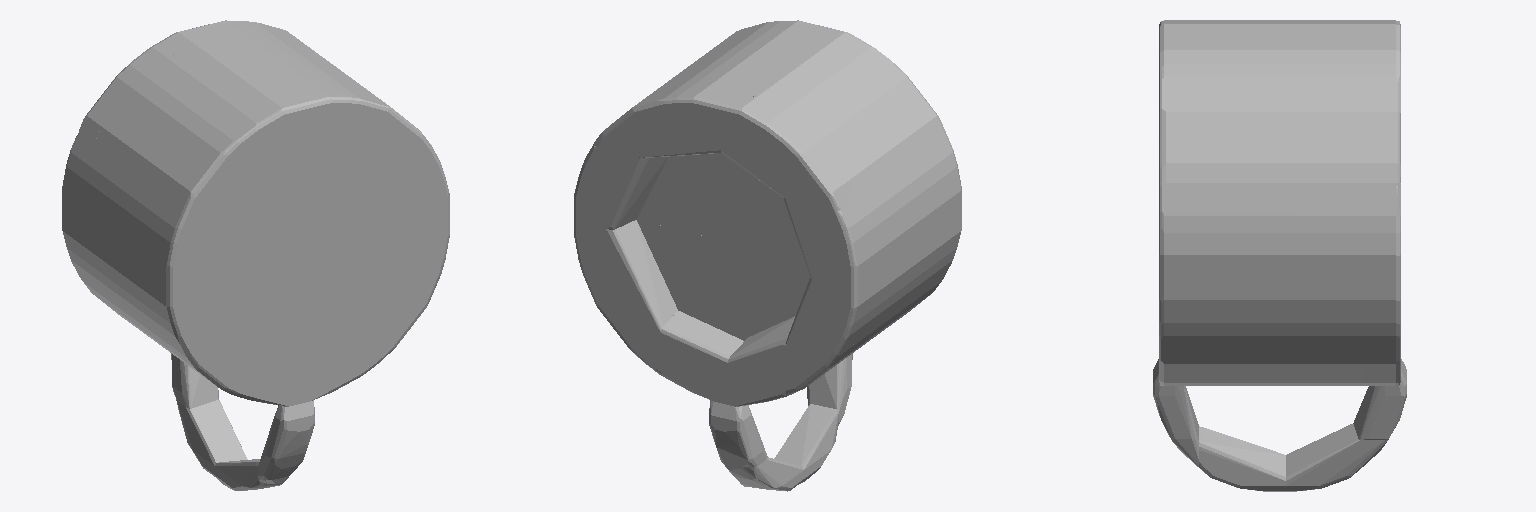
robot.urdf — root:
<robot name="root">
  <link name="link_coacd_convex_piece_0">
    <inertial>
      <origin xyz="0 0 0" rpy="0 0 0"/>
      <inertia ixx="3.86E-03" ixy="9.78E-06" ixz="-1.26E-04" iyy="2.55E-02" iyz="-4.34E-03" izz="5.74E-02"/>
    </inertial>
    <visual>
      <origin xyz="0 0 0" rpy="0 0 0"/>
      <geometry>
        <mesh filename="coacd_convex_piece_0.obj" scale="1.0000E+00 1.0000E+00 1.0000E+00"/>
      </geometry>
      <material name="">
        <color rgba="7.50E-01 7.50E-01 7.50E-01 1"/>
      </material>
    </visual>
    <collision>
      <origin xyz="0 0 0" rpy="0 0 0"/>
      <geometry>
        <mesh filename="coacd_convex_piece_0.obj" scale="1.0000E+00 1.0000E+00 1.0000E+00"/>
      </geometry>
    </collision>
  </link>
  <link name="link_coacd_convex_piece_1">
    <inertial>
      <origin xyz="0 0 0" rpy="0 0 0"/>
      <inertia ixx="1.57E-03" ixy="1.03E-04" ixz="-1.58E-04" iyy="1.02E-03" iyz="8.01E-04" izz="6.04E-04"/>
    </inertial>
    <visual>
      <origin xyz="0 0 0" rpy="0 0 0"/>
      <geometry>
        <mesh filename="coacd_convex_piece_1.obj" scale="1.0000E+00 1.0000E+00 1.0000E+00"/>
      </geometry>
      <material name="">
        <color rgba="7.50E-01 7.50E-01 7.50E-01 1"/>
      </material>
    </visual>
    <collision>
      <origin xyz="0 0 0" rpy="0 0 0"/>
      <geometry>
        <mesh filename="coacd_convex_piece_1.obj" scale="1.0000E+00 1.0000E+00 1.0000E+00"/>
      </geometry>
    </collision>
  </link>
  <joint name="link_coacd_convex_piece_1_joint" type="fixed">
    <origin xyz="0 0 0" rpy="0 0 0"/>
    <parent link="link_coacd_convex_piece_0"/>
    <child link="link_coacd_convex_piece_1"/>
  </joint>
  <link name="link_coacd_convex_piece_2">
    <inertial>
      <origin xyz="0 0 0" rpy="0 0 0"/>
      <inertia ixx="2.90E-03" ixy="8.28E-05" ixz="-3.52E-04" iyy="2.74E-03" iyz="6.63E-04" izz="2.60E-04"/>
    </inertial>
    <visual>
      <origin xyz="0 0 0" rpy="0 0 0"/>
      <geometry>
        <mesh filename="coacd_convex_piece_2.obj" scale="1.0000E+00 1.0000E+00 1.0000E+00"/>
      </geometry>
      <material name="">
        <color rgba="7.50E-01 7.50E-01 7.50E-01 1"/>
      </material>
    </visual>
    <collision>
      <origin xyz="0 0 0" rpy="0 0 0"/>
      <geometry>
        <mesh filename="coacd_convex_piece_2.obj" scale="1.0000E+00 1.0000E+00 1.0000E+00"/>
      </geometry>
    </collision>
  </link>
  <joint name="link_coacd_convex_piece_2_joint" type="fixed">
    <origin xyz="0 0 0" rpy="0 0 0"/>
    <parent link="link_coacd_convex_piece_1"/>
    <child link="link_coacd_convex_piece_2"/>
  </joint>
  <link name="link_coacd_convex_piece_3">
    <inertial>
      <origin xyz="0 0 0" rpy="0 0 0"/>
      <inertia ixx="2.61E-03" ixy="-5.48E-05" ixz="-3.30E-04" iyy="2.55E-03" iyz="-5.03E-04" izz="1.53E-04"/>
    </inertial>
    <visual>
      <origin xyz="0 0 0" rpy="0 0 0"/>
      <geometry>
        <mesh filename="coacd_convex_piece_3.obj" scale="1.0000E+00 1.0000E+00 1.0000E+00"/>
      </geometry>
      <material name="">
        <color rgba="7.50E-01 7.50E-01 7.50E-01 1"/>
      </material>
    </visual>
    <collision>
      <origin xyz="0 0 0" rpy="0 0 0"/>
      <geometry>
        <mesh filename="coacd_convex_piece_3.obj" scale="1.0000E+00 1.0000E+00 1.0000E+00"/>
      </geometry>
    </collision>
  </link>
  <joint name="link_coacd_convex_piece_3_joint" type="fixed">
    <origin xyz="0 0 0" rpy="0 0 0"/>
    <parent link="link_coacd_convex_piece_2"/>
    <child link="link_coacd_convex_piece_3"/>
  </joint>
  <link name="link_coacd_convex_piece_4">
    <inertial>
      <origin xyz="0 0 0" rpy="0 0 0"/>
      <inertia ixx="1.82E-03" ixy="-1.09E-04" ixz="-1.77E-04" iyy="1.24E-03" iyz="-9.71E-04" izz="6.34E-04"/>
    </inertial>
    <visual>
      <origin xyz="0 0 0" rpy="0 0 0"/>
      <geometry>
        <mesh filename="coacd_convex_piece_4.obj" scale="1.0000E+00 1.0000E+00 1.0000E+00"/>
      </geometry>
      <material name="">
        <color rgba="7.50E-01 7.50E-01 7.50E-01 1"/>
      </material>
    </visual>
    <collision>
      <origin xyz="0 0 0" rpy="0 0 0"/>
      <geometry>
        <mesh filename="coacd_convex_piece_4.obj" scale="1.0000E+00 1.0000E+00 1.0000E+00"/>
      </geometry>
    </collision>
  </link>
  <joint name="link_coacd_convex_piece_4_joint" type="fixed">
    <origin xyz="0 0 0" rpy="0 0 0"/>
    <parent link="link_coacd_convex_piece_3"/>
    <child link="link_coacd_convex_piece_4"/>
  </joint>
  <link name="link_coacd_convex_piece_5">
    <inertial>
      <origin xyz="0 0 0" rpy="0 0 0"/>
      <inertia ixx="1.15E-01" ixy="2.00E-05" ixz="-1.35E-04" iyy="1.39E-01" iyz="1.06E-02" izz="6.18E-02"/>
    </inertial>
    <visual>
      <origin xyz="0 0 0" rpy="0 0 0"/>
      <geometry>
        <mesh filename="coacd_convex_piece_5.obj" scale="1.0000E+00 1.0000E+00 1.0000E+00"/>
      </geometry>
      <material name="">
        <color rgba="7.50E-01 7.50E-01 7.50E-01 1"/>
      </material>
    </visual>
    <collision>
      <origin xyz="0 0 0" rpy="0 0 0"/>
      <geometry>
        <mesh filename="coacd_convex_piece_5.obj" scale="1.0000E+00 1.0000E+00 1.0000E+00"/>
      </geometry>
    </collision>
  </link>
  <joint name="link_coacd_convex_piece_5_joint" type="fixed">
    <origin xyz="0 0 0" rpy="0 0 0"/>
    <parent link="link_coacd_convex_piece_4"/>
    <child link="link_coacd_convex_piece_5"/>
  </joint>
  <link name="link_coacd_convex_piece_6">
    <inertial>
      <origin xyz="0 0 0" rpy="0 0 0"/>
      <inertia ixx="1.01E-03" ixy="2.07E-03" ixz="1.49E-04" iyy="2.19E-03" iyz="-1.74E-04" izz="4.36E-03"/>
    </inertial>
    <visual>
      <origin xyz="0 0 0" rpy="0 0 0"/>
      <geometry>
        <mesh filename="coacd_convex_piece_6.obj" scale="1.0000E+00 1.0000E+00 1.0000E+00"/>
      </geometry>
      <material name="">
        <color rgba="7.50E-01 7.50E-01 7.50E-01 1"/>
      </material>
    </visual>
    <collision>
      <origin xyz="0 0 0" rpy="0 0 0"/>
      <geometry>
        <mesh filename="coacd_convex_piece_6.obj" scale="1.0000E+00 1.0000E+00 1.0000E+00"/>
      </geometry>
    </collision>
  </link>
  <joint name="link_coacd_convex_piece_6_joint" type="fixed">
    <origin xyz="0 0 0" rpy="0 0 0"/>
    <parent link="link_coacd_convex_piece_5"/>
    <child link="link_coacd_convex_piece_6"/>
  </joint>
  <link name="link_coacd_convex_piece_7">
    <inertial>
      <origin xyz="0 0 0" rpy="0 0 0"/>
      <inertia ixx="8.15E-03" ixy="-1.05E-03" ixz="-2.04E-03" iyy="7.30E-03" iyz="-3.68E-03" izz="2.67E-03"/>
    </inertial>
    <visual>
      <origin xyz="0 0 0" rpy="0 0 0"/>
      <geometry>
        <mesh filename="coacd_convex_piece_7.obj" scale="1.0000E+00 1.0000E+00 1.0000E+00"/>
      </geometry>
      <material name="">
        <color rgba="7.50E-01 7.50E-01 7.50E-01 1"/>
      </material>
    </visual>
    <collision>
      <origin xyz="0 0 0" rpy="0 0 0"/>
      <geometry>
        <mesh filename="coacd_convex_piece_7.obj" scale="1.0000E+00 1.0000E+00 1.0000E+00"/>
      </geometry>
    </collision>
  </link>
  <joint name="link_coacd_convex_piece_7_joint" type="fixed">
    <origin xyz="0 0 0" rpy="0 0 0"/>
    <parent link="link_coacd_convex_piece_6"/>
    <child link="link_coacd_convex_piece_7"/>
  </joint>
  <link name="link_coacd_convex_piece_8">
    <inertial>
      <origin xyz="0 0 0" rpy="0 0 0"/>
      <inertia ixx="2.47E-03" ixy="-1.74E-03" ixz="-2.00E-03" iyy="3.63E-03" iyz="-1.59E-03" izz="3.72E-03"/>
    </inertial>
    <visual>
      <origin xyz="0 0 0" rpy="0 0 0"/>
      <geometry>
        <mesh filename="coacd_convex_piece_8.obj" scale="1.0000E+00 1.0000E+00 1.0000E+00"/>
      </geometry>
      <material name="">
        <color rgba="7.50E-01 7.50E-01 7.50E-01 1"/>
      </material>
    </visual>
    <collision>
      <origin xyz="0 0 0" rpy="0 0 0"/>
      <geometry>
        <mesh filename="coacd_convex_piece_8.obj" scale="1.0000E+00 1.0000E+00 1.0000E+00"/>
      </geometry>
    </collision>
  </link>
  <joint name="link_coacd_convex_piece_8_joint" type="fixed">
    <origin xyz="0 0 0" rpy="0 0 0"/>
    <parent link="link_coacd_convex_piece_7"/>
    <child link="link_coacd_convex_piece_8"/>
  </joint>
  <link name="link_coacd_convex_piece_9">
    <inertial>
      <origin xyz="0 0 0" rpy="0 0 0"/>
      <inertia ixx="7.36E-03" ixy="1.18E-03" ixz="2.24E-03" iyy="6.77E-03" iyz="-3.38E-03" izz="2.73E-03"/>
    </inertial>
    <visual>
      <origin xyz="0 0 0" rpy="0 0 0"/>
      <geometry>
        <mesh filename="coacd_convex_piece_9.obj" scale="1.0000E+00 1.0000E+00 1.0000E+00"/>
      </geometry>
      <material name="">
        <color rgba="7.50E-01 7.50E-01 7.50E-01 1"/>
      </material>
    </visual>
    <collision>
      <origin xyz="0 0 0" rpy="0 0 0"/>
      <geometry>
        <mesh filename="coacd_convex_piece_9.obj" scale="1.0000E+00 1.0000E+00 1.0000E+00"/>
      </geometry>
    </collision>
  </link>
  <joint name="link_coacd_convex_piece_9_joint" type="fixed">
    <origin xyz="0 0 0" rpy="0 0 0"/>
    <parent link="link_coacd_convex_piece_8"/>
    <child link="link_coacd_convex_piece_9"/>
  </joint>
  <link name="link_coacd_convex_piece_10">
    <inertial>
      <origin xyz="0 0 0" rpy="0 0 0"/>
      <inertia ixx="2.27E-03" ixy="1.69E-03" ixz="1.87E-03" iyy="3.38E-03" iyz="-1.49E-03" izz="3.60E-03"/>
    </inertial>
    <visual>
      <origin xyz="0 0 0" rpy="0 0 0"/>
      <geometry>
        <mesh filename="coacd_convex_piece_10.obj" scale="1.0000E+00 1.0000E+00 1.0000E+00"/>
      </geometry>
      <material name="">
        <color rgba="7.50E-01 7.50E-01 7.50E-01 1"/>
      </material>
    </visual>
    <collision>
      <origin xyz="0 0 0" rpy="0 0 0"/>
      <geometry>
        <mesh filename="coacd_convex_piece_10.obj" scale="1.0000E+00 1.0000E+00 1.0000E+00"/>
      </geometry>
    </collision>
  </link>
  <joint name="link_coacd_convex_piece_10_joint" type="fixed">
    <origin xyz="0 0 0" rpy="0 0 0"/>
    <parent link="link_coacd_convex_piece_9"/>
    <child link="link_coacd_convex_piece_10"/>
  </joint>
  <link name="link_coacd_convex_piece_11">
    <inertial>
      <origin xyz="0 0 0" rpy="0 0 0"/>
      <inertia ixx="1.30E-03" ixy="-2.36E-03" ixz="1.36E-06" iyy="2.34E-03" iyz="-4.29E-06" izz="4.97E-03"/>
    </inertial>
    <visual>
      <origin xyz="0 0 0" rpy="0 0 0"/>
      <geometry>
        <mesh filename="coacd_convex_piece_11.obj" scale="1.0000E+00 1.0000E+00 1.0000E+00"/>
      </geometry>
      <material name="">
        <color rgba="7.50E-01 7.50E-01 7.50E-01 1"/>
      </material>
    </visual>
    <collision>
      <origin xyz="0 0 0" rpy="0 0 0"/>
      <geometry>
        <mesh filename="coacd_convex_piece_11.obj" scale="1.0000E+00 1.0000E+00 1.0000E+00"/>
      </geometry>
    </collision>
  </link>
  <joint name="link_coacd_convex_piece_11_joint" type="fixed">
    <origin xyz="0 0 0" rpy="0 0 0"/>
    <parent link="link_coacd_convex_piece_10"/>
    <child link="link_coacd_convex_piece_11"/>
  </joint>
  <link name="link_coacd_convex_piece_12">
    <inertial>
      <origin xyz="0 0 0" rpy="0 0 0"/>
      <inertia ixx="1.10E-03" ixy="-2.48E-04" ixz="1.73E-04" iyy="2.09E-04" iyz="6.82E-04" izz="1.13E-03"/>
    </inertial>
    <visual>
      <origin xyz="0 0 0" rpy="0 0 0"/>
      <geometry>
        <mesh filename="coacd_convex_piece_12.obj" scale="1.0000E+00 1.0000E+00 1.0000E+00"/>
      </geometry>
      <material name="">
        <color rgba="7.50E-01 7.50E-01 7.50E-01 1"/>
      </material>
    </visual>
    <collision>
      <origin xyz="0 0 0" rpy="0 0 0"/>
      <geometry>
        <mesh filename="coacd_convex_piece_12.obj" scale="1.0000E+00 1.0000E+00 1.0000E+00"/>
      </geometry>
    </collision>
  </link>
  <joint name="link_coacd_convex_piece_12_joint" type="fixed">
    <origin xyz="0 0 0" rpy="0 0 0"/>
    <parent link="link_coacd_convex_piece_11"/>
    <child link="link_coacd_convex_piece_12"/>
  </joint>
  <link name="link_coacd_convex_piece_13">
    <inertial>
      <origin xyz="0 0 0" rpy="0 0 0"/>
      <inertia ixx="9.49E-04" ixy="5.62E-04" ixz="-3.38E-04" iyy="3.10E-04" iyz="5.64E-04" izz="1.36E-03"/>
    </inertial>
    <visual>
      <origin xyz="0 0 0" rpy="0 0 0"/>
      <geometry>
        <mesh filename="coacd_convex_piece_13.obj" scale="1.0000E+00 1.0000E+00 1.0000E+00"/>
      </geometry>
      <material name="">
        <color rgba="7.50E-01 7.50E-01 7.50E-01 1"/>
      </material>
    </visual>
    <collision>
      <origin xyz="0 0 0" rpy="0 0 0"/>
      <geometry>
        <mesh filename="coacd_convex_piece_13.obj" scale="1.0000E+00 1.0000E+00 1.0000E+00"/>
      </geometry>
    </collision>
  </link>
  <joint name="link_coacd_convex_piece_13_joint" type="fixed">
    <origin xyz="0 0 0" rpy="0 0 0"/>
    <parent link="link_coacd_convex_piece_12"/>
    <child link="link_coacd_convex_piece_13"/>
  </joint>
</robot>

--- Facts derived from the render (not from the file) ---
The picture shows the robot from 3 angles, left to right: view 1: azimuth 30°, elevation 25°; view 2: azimuth 150°, elevation 25°; view 3: azimuth 270°, elevation 25°; orthographic projection.
Model root with 14 links and 13 joints (13 fixed), rooted at link_coacd_convex_piece_0, posed every joint at zero.
Links seen in each view (by area): view 1: link_coacd_convex_piece_5, link_coacd_convex_piece_0, link_coacd_convex_piece_4, link_coacd_convex_piece_9, link_coacd_convex_piece_2, link_coacd_convex_piece_1, link_coacd_convex_piece_10, link_coacd_convex_piece_3, link_coacd_convex_piece_7, link_coacd_convex_piece_6; view 2: link_coacd_convex_piece_5, link_coacd_convex_piece_0, link_coacd_convex_piece_11, link_coacd_convex_piece_9, link_coacd_convex_piece_7, link_coacd_convex_piece_6, link_coacd_convex_piece_10, link_coacd_convex_piece_8, link_coacd_convex_piece_12, link_coacd_convex_piece_13, link_coacd_convex_piece_1, link_coacd_convex_piece_3 (+2 smaller); view 3: link_coacd_convex_piece_5, link_coacd_convex_piece_0, link_coacd_convex_piece_7, link_coacd_convex_piece_3, link_coacd_convex_piece_2, link_coacd_convex_piece_11, link_coacd_convex_piece_8, link_coacd_convex_piece_4, link_coacd_convex_piece_1, link_coacd_convex_piece_9.
Boxes of the visible links, <box> form: link_coacd_convex_piece_5: <box>77,31,449,288</box>; link_coacd_convex_piece_0: <box>77,221,449,406</box>; link_coacd_convex_piece_4: <box>258,400,314,483</box>; link_coacd_convex_piece_9: <box>79,28,210,144</box>; link_coacd_convex_piece_2: <box>176,400,247,476</box>; link_coacd_convex_piece_1: <box>171,353,218,408</box>; link_coacd_convex_piece_10: <box>62,133,93,221</box>; link_coacd_convex_piece_3: <box>215,459,284,490</box>; link_coacd_convex_piece_7: <box>196,20,299,40</box>; link_coacd_convex_piece_6: <box>62,212,129,322</box>; link_coacd_convex_piece_5: <box>637,20,961,276</box>; link_coacd_convex_piece_0: <box>637,212,961,377</box>; link_coacd_convex_piece_11: <box>574,220,677,375</box>; link_coacd_convex_piece_9: <box>720,93,855,210</box>; link_coacd_convex_piece_7: <box>593,86,736,157</box>; link_coacd_convex_piece_6: <box>786,278,871,395</box>; link_coacd_convex_piece_10: <box>783,198,871,288</box>; link_coacd_convex_piece_8: <box>574,145,667,229</box>; link_coacd_convex_piece_12: <box>661,311,743,404</box>; link_coacd_convex_piece_13: <box>728,316,794,406</box>; link_coacd_convex_piece_1: <box>709,400,767,466</box>; link_coacd_convex_piece_3: <box>774,404,838,483</box>; link_coacd_convex_piece_5: <box>1159,20,1362,283</box>; link_coacd_convex_piece_0: <box>1159,283,1362,385</box>; link_coacd_convex_piece_7: <box>1363,35,1400,184</box>; link_coacd_convex_piece_3: <box>1199,426,1285,491</box>; link_coacd_convex_piece_2: <box>1286,424,1388,491</box>; link_coacd_convex_piece_11: <box>1363,283,1400,385</box>; link_coacd_convex_piece_8: <box>1363,183,1400,283</box>; link_coacd_convex_piece_4: <box>1153,359,1198,466</box>; link_coacd_convex_piece_1: <box>1353,359,1406,439</box>; link_coacd_convex_piece_9: <box>1363,20,1400,37</box>.
Size in the robot's own frame: 1.27 by 0.8825 by 1.76 metres.
Meshes: 14 distinct files referenced, 14 mesh visuals loaded (14 OBJ).
